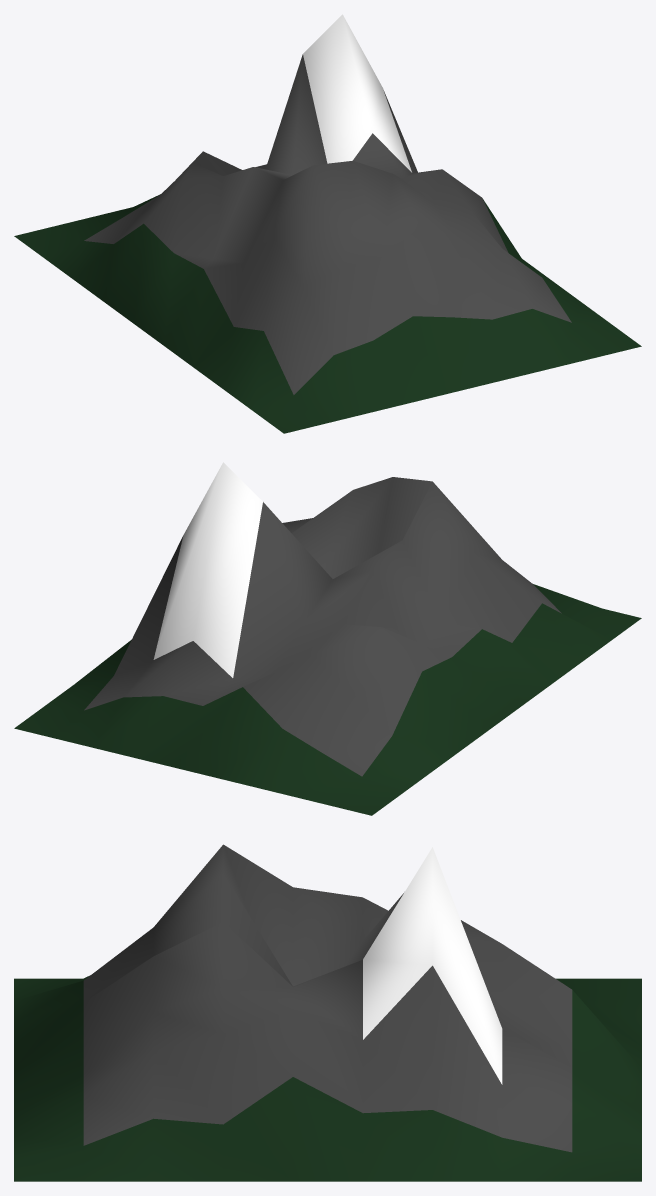
Rendered from mountain.v4.fbx.
The picture shows the model from 3 angles, top to bottom: view 1: azimuth 30°, elevation 25°; view 2: azimuth 150°, elevation 25°; view 3: azimuth 270°, elevation 25°; orthographic projection. The views are drawn at different scales.
Parts seen in each view (by area): view 1: Landscape.005; view 2: Landscape.005; view 3: Landscape.005.
Boxes of the visible parts, x1,y1,x2,y2 form: Landscape.005: (14,14,641,433); Landscape.005: (14,462,641,815); Landscape.005: (14,844,641,1181).
Size of the model in its own units: 3760 by 2305 by 4914.
